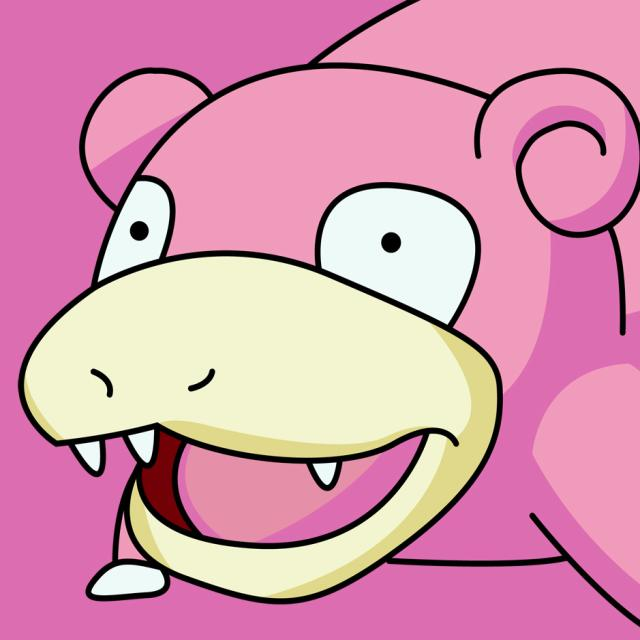Slowpoke: (21, 57, 640, 595)
